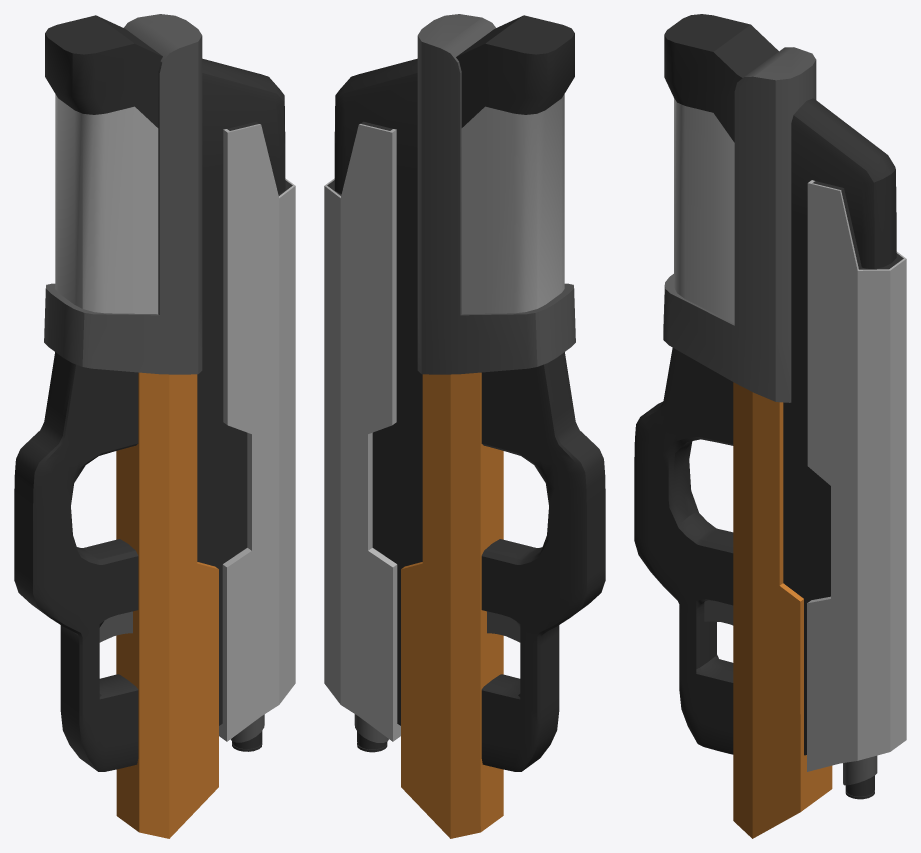
3 renders of one model, left to right at view 1: azimuth 30°, elevation 25°; view 2: azimuth 150°, elevation 25°; view 3: azimuth 330°, elevation 25°, orthographic. The views are drawn at different scales.
Visible parts, largest first — view 1: WeaponMesh_qg-ar-5_AR_5; view 2: WeaponMesh_qg-ar-5_AR_5; view 3: WeaponMesh_qg-ar-5_AR_5.
Boxes of the visible parts, x1,y1,x2,y2 form: WeaponMesh_qg-ar-5_AR_5: (14,14,295,838); WeaponMesh_qg-ar-5_AR_5: (324,14,605,838); WeaponMesh_qg-ar-5_AR_5: (634,14,906,838).
Size of the model in its own units: 0.4274 by 1.25 by 0.1175.
